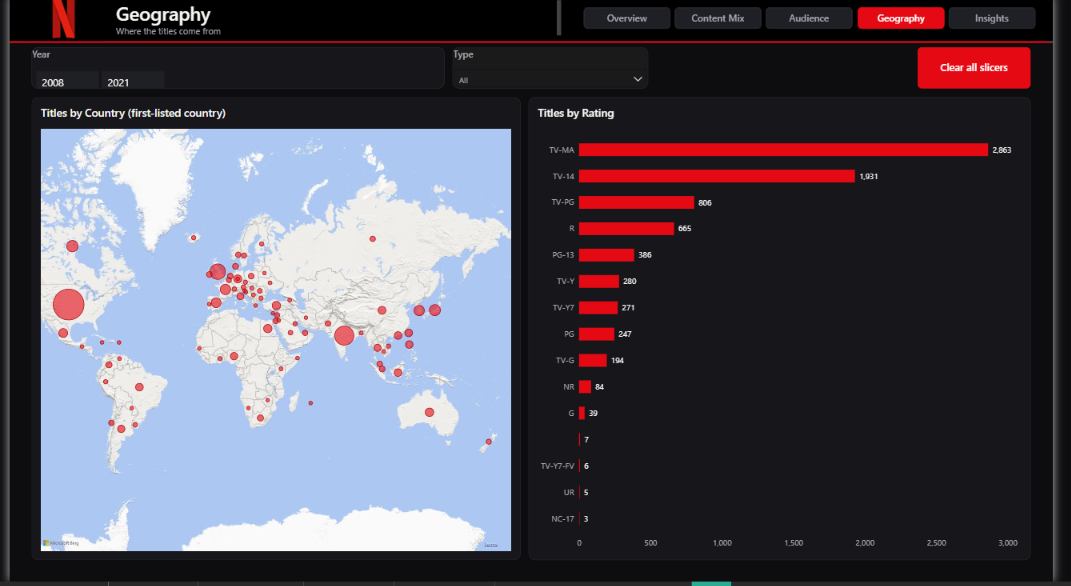

The dashboard page shown, as its layout file describes it:
{"tool":"powerbi","page":{"name":"Geography","canvas":[1920,1080],"ordinal":3},"visuals":[{"type":"textbox","box":[0,0,1920,84],"z":100},{"type":"textbox","box":[0,84,1920,3],"z":110},{"type":"image","box":[24,0,150,84],"z":120},{"type":"textbox","box":[196,10,820,66],"z":130},{"type":"actionButton","box":[1056,22,160,40],"z":140},{"type":"actionButton","box":[1224,22,160,40],"z":141},{"type":"actionButton","box":[1392,22,160,40],"z":142},{"type":"actionButton","box":[1560,22,160,40],"z":143},{"type":"actionButton","box":[1728,22,160,40],"z":144},{"type":"slicer","title":"Year","fields":{"Values":["dim_Date.Year"]},"box":[40,96,760,76],"z":1000},{"type":"slicer","title":"Type","fields":{"Values":["netflix_titles.type"]},"box":[816,96,360,76],"z":1010},{"type":"actionButton","box":[1672,96,208,76],"z":1020},{"type":"map","title":"Titles by Country (first-listed country)","fields":{"Category":["netflix_titles.Primary Country"],"Size":["_Measures.Total Titles"]},"box":[40,188,900,852],"z":1030},{"type":"barChart","title":"Titles by Rating","fields":{"Category":["netflix_titles.rating"],"Y":["_Measures.Total Titles"]},"box":[956,188,924,852],"z":1040}]}

Visuals, with their boxes on the page's 1920x1080 design canvas (x1, y1, x2, y2). These are canvas units, not pixel positions in the 1071x586 screenshot, which may show the page scaled, cropped or inside an application window:
textbox: 0:0:1920:84
textbox: 0:84:1920:87
image: 24:0:174:84
textbox: 196:10:1016:76
actionButton: 1056:22:1216:62
actionButton: 1224:22:1384:62
actionButton: 1392:22:1552:62
actionButton: 1560:22:1720:62
actionButton: 1728:22:1888:62
"Year" slicer: 40:96:800:172
"Type" slicer: 816:96:1176:172
actionButton: 1672:96:1880:172
"Titles by Country (first-listed country)" map: 40:188:940:1040
"Titles by Rating" barChart: 956:188:1880:1040
